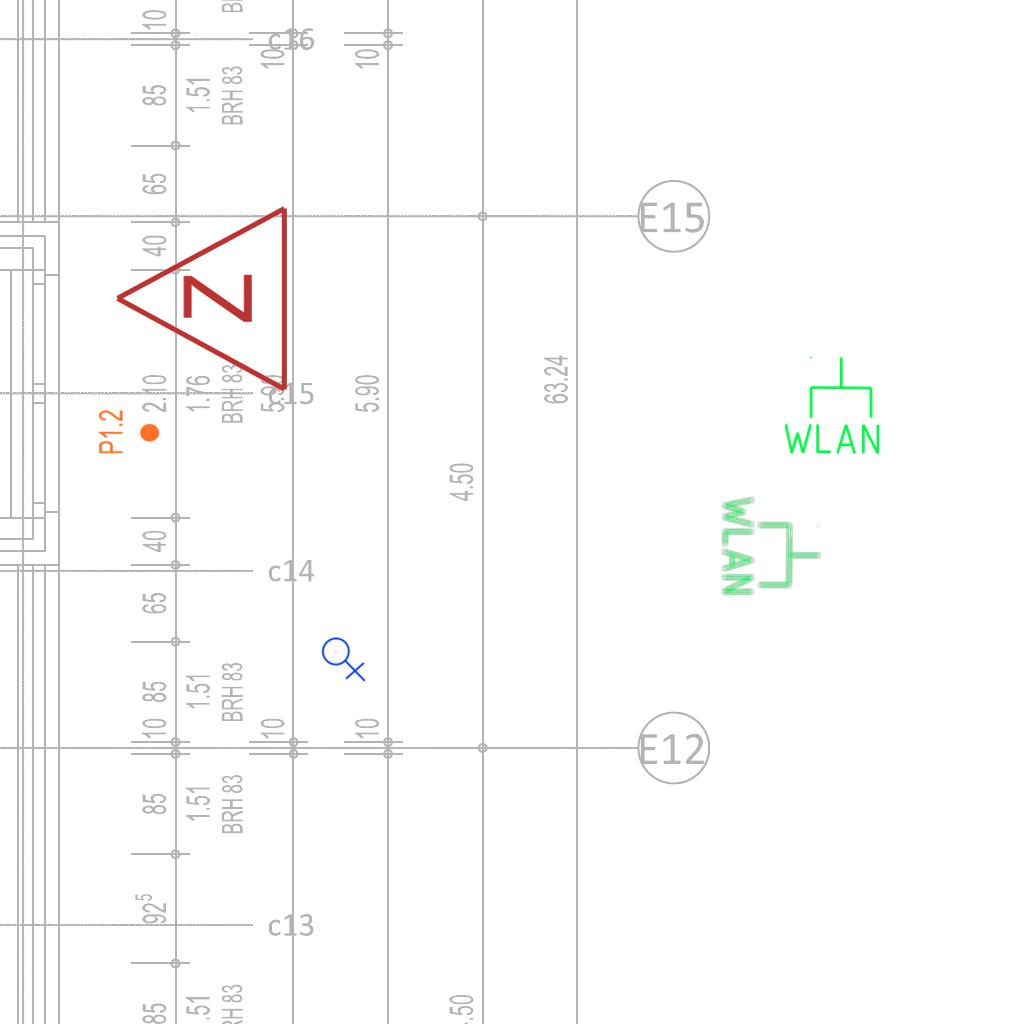Downlight_LED_Einbauleuchten_Flur: (97, 409, 161, 455)
Elektroanschluss_allgemein_230V_Geraeteanschlussdose_230V: (321, 633, 368, 682)
WLAN: (719, 493, 823, 598), (779, 354, 884, 458)
Zimmersignalleuchte: (102, 203, 302, 399)
